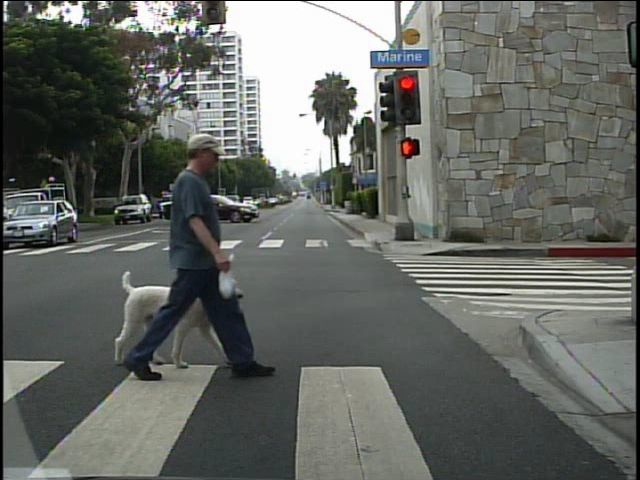person: (125, 117, 251, 385)
